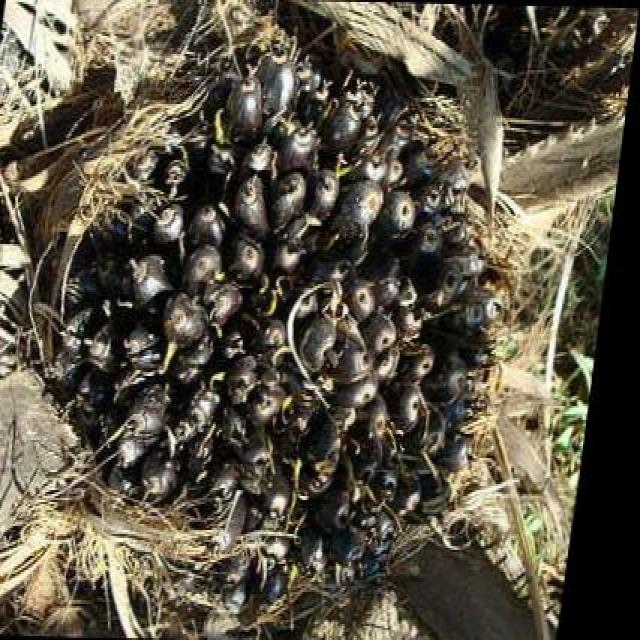Unripe: (25, 33, 539, 609)
